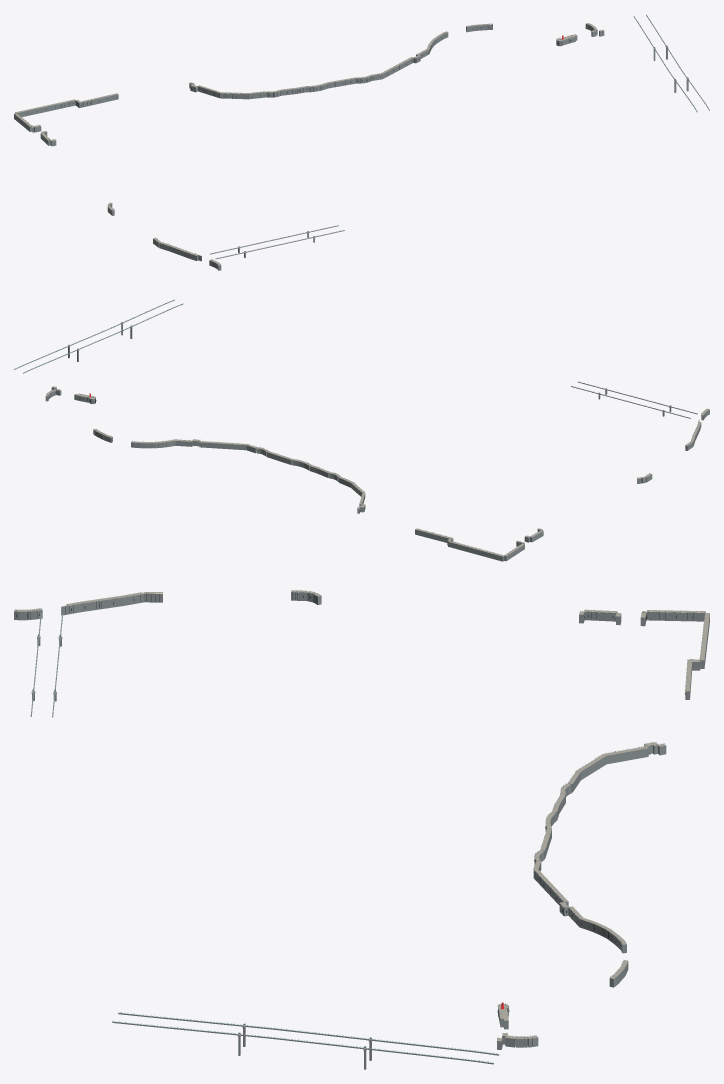
File: yeosu-roadscape.glb
The picture shows the model from 3 angles, top to bottom: view 1: azimuth 30°, elevation 25°; view 2: azimuth 150°, elevation 25°; view 3: azimuth 270°, elevation 25°; orthographic projection. The views are drawn at different scales.
Bounding box in the file's own units: 1585 × 34.23 × 962.
